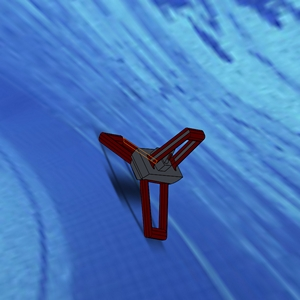submarine: (71, 92, 217, 252)
